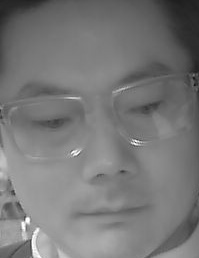eye: (27, 112, 66, 137), (126, 97, 167, 119)
glass: (111, 71, 199, 148), (1, 93, 87, 159)
mouth: (68, 193, 155, 238)
